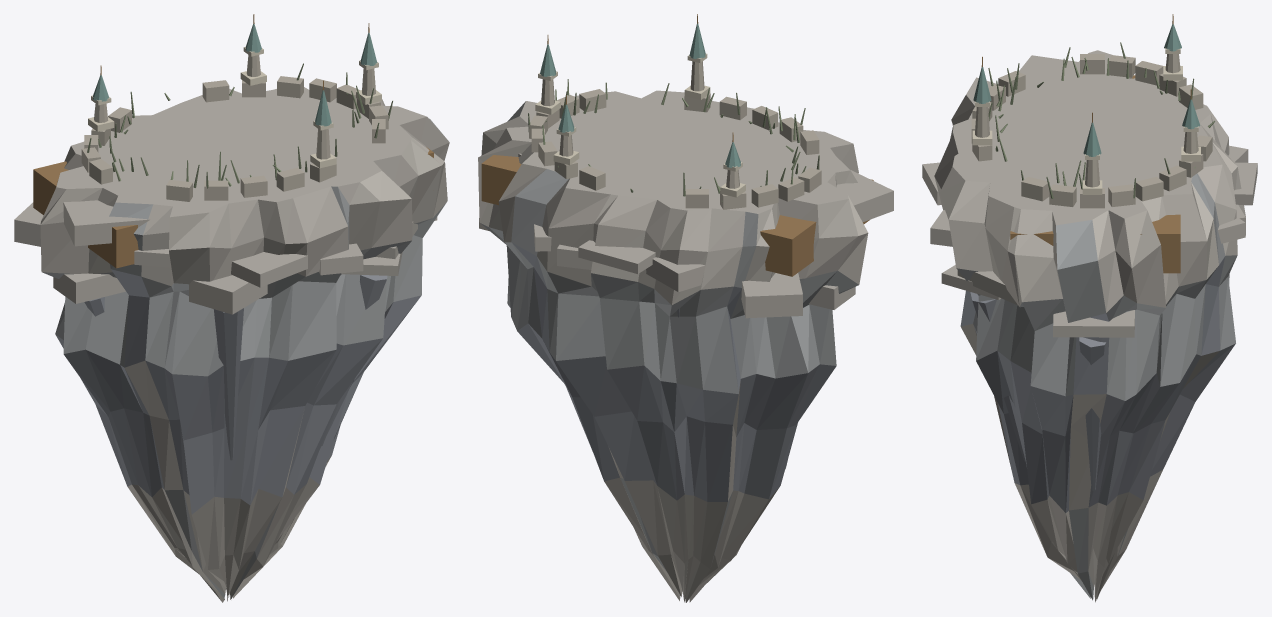
File: island-shard.glb
3 renders of one model, left to right at view 1: azimuth 30°, elevation 25°; view 2: azimuth 150°, elevation 25°; view 3: azimuth 270°, elevation 25°, orthographic. The views are drawn at different scales.
Visible parts, largest first — view 1: island-shard__rock_light, island-shard__rock_dark, island-shard__rock, island-shard__limestone, island-shard__bronze, island-shard__moss, island-shard__pale, island-shard__copper; view 2: island-shard__rock_light, island-shard__rock, island-shard__rock_dark, island-shard__limestone, island-shard__bronze, island-shard__moss, island-shard__pale, island-shard__copper; view 3: island-shard__rock_light, island-shard__rock_dark, island-shard__rock, island-shard__limestone, island-shard__moss, island-shard__bronze, island-shard__copper, island-shard__pale.
Boxes of the visible parts, <box> form: island-shard__rock_light: <box>14,87,449,602</box>; island-shard__rock_dark: <box>55,269,421,514</box>; island-shard__rock: <box>42,118,448,598</box>; island-shard__limestone: <box>81,55,388,201</box>; island-shard__bronze: <box>33,14,433,268</box>; island-shard__moss: <box>87,63,392,188</box>; island-shard__pale: <box>88,47,381,168</box>; island-shard__copper: <box>93,24,377,126</box>; island-shard__rock_light: <box>478,90,893,602</box>; island-shard__rock: <box>480,101,858,572</box>; island-shard__rock_dark: <box>508,242,836,501</box>; island-shard__limestone: <box>529,61,821,209</box>; island-shard__bronze: <box>481,14,873,276</box>; island-shard__moss: <box>528,79,819,202</box>; island-shard__pale: <box>535,53,745,197</box>; island-shard__copper: <box>540,23,740,167</box>; island-shard__rock_light: <box>922,50,1257,602</box>; island-shard__rock_dark: <box>960,256,1235,512</box>; island-shard__rock: <box>956,173,1237,600</box>; island-shard__limestone: <box>971,54,1212,208</box>; island-shard__moss: <box>988,42,1214,198</box>; island-shard__bronze: <box>981,14,1191,273</box>; island-shard__copper: <box>973,24,1200,156</box>; island-shard__pale: <box>972,48,1200,194</box>.
Bounding box in the file's own units: 128 × 173 × 92.84.
